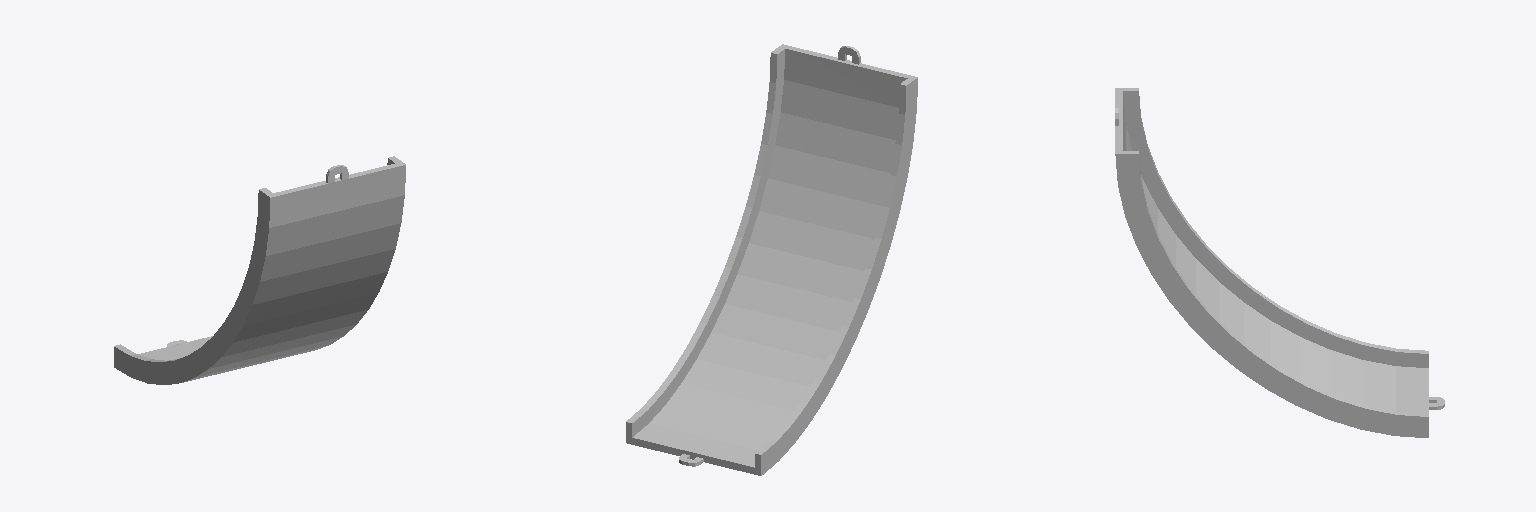
File: track-wide-straight-bend-large.obj
3 renders of one model, left to right at view 1: azimuth 30°, elevation 25°; view 2: azimuth 150°, elevation 25°; view 3: azimuth 270°, elevation 25°, orthographic.
Parts seen in each view (by area): view 1: track-wide-straight-bend-large; view 2: track-wide-straight-bend-large; view 3: track-wide-straight-bend-large.
Boxes of the visible parts, x1,y1,x2,y2 form: track-wide-straight-bend-large: [114, 156, 405, 384]; track-wide-straight-bend-large: [626, 44, 917, 475]; track-wide-straight-bend-large: [1115, 88, 1444, 437].
Size of the model in its own units: 2 by 4.2 by 4.2.